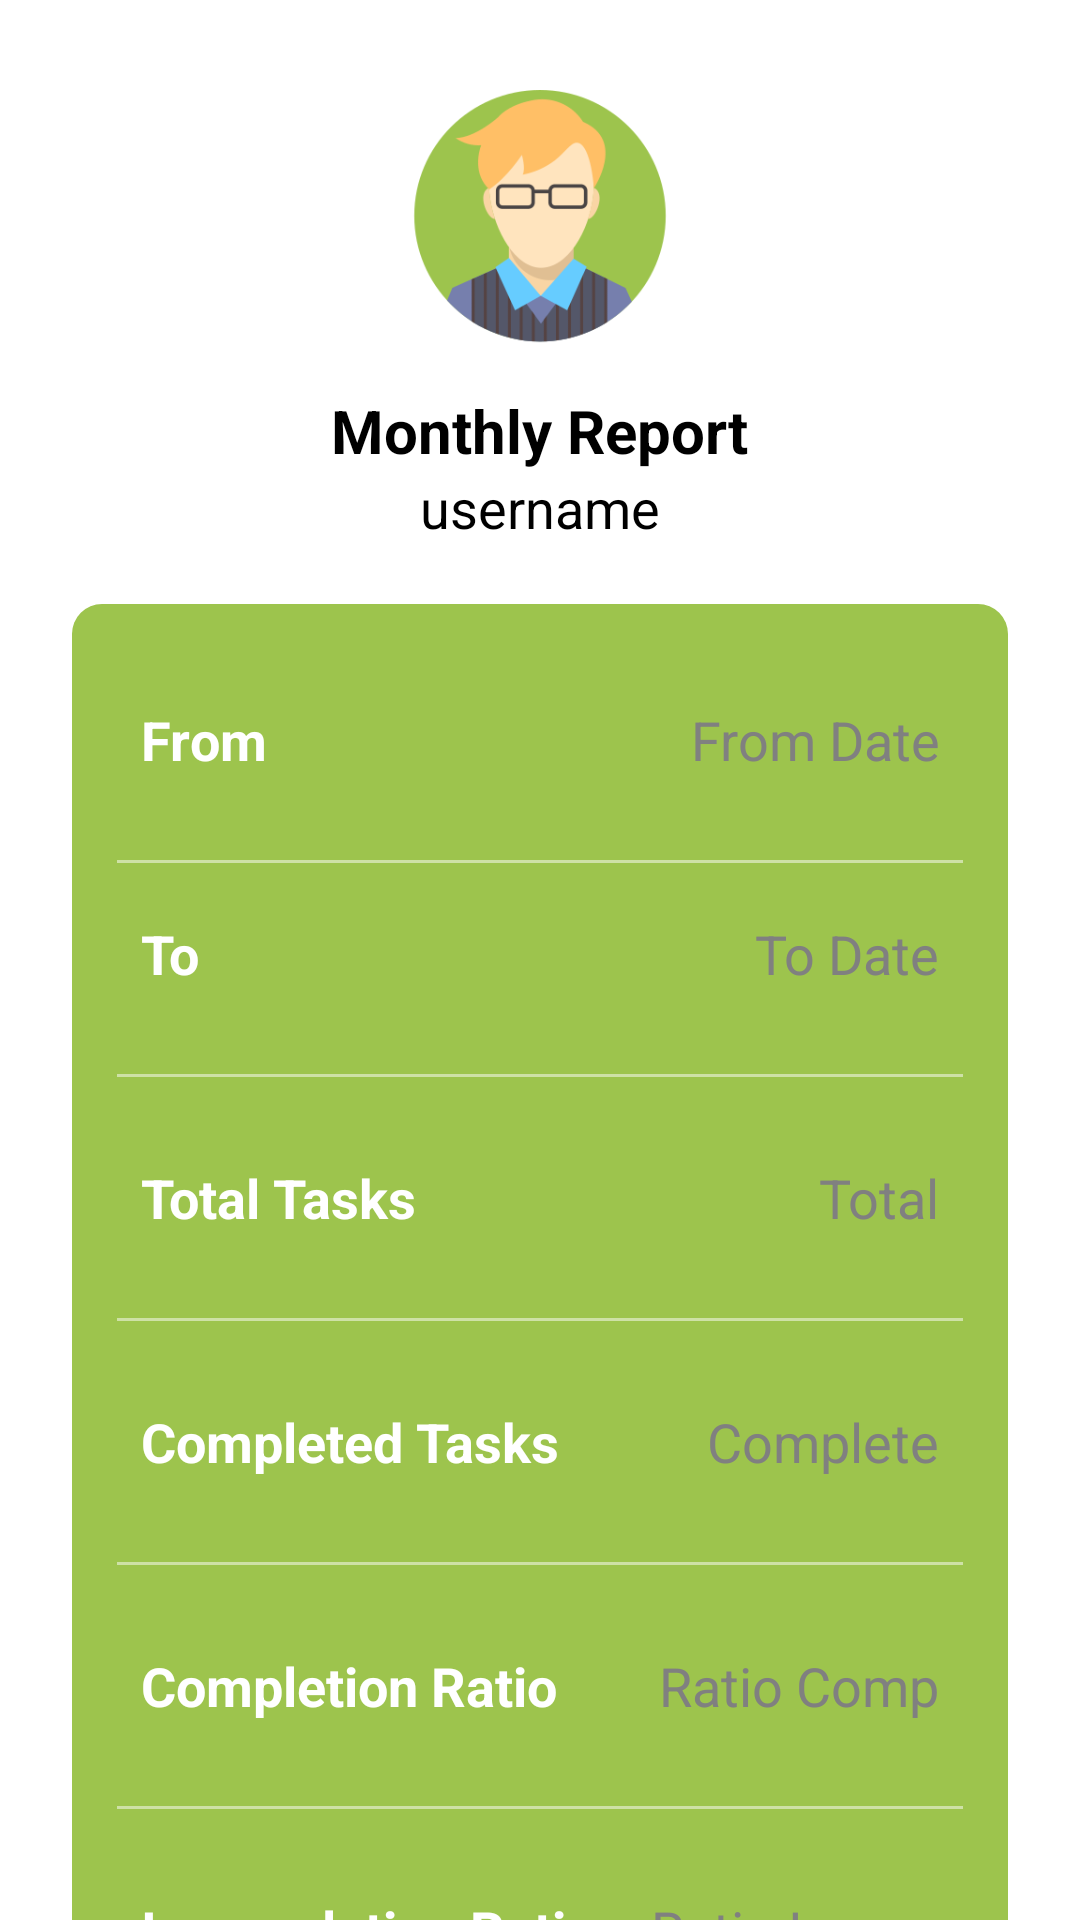

Screen size 1080×1920. Icon name, then its box in pixels as (x1, y1, x2, y2):
profile fo: (414, 90, 666, 342)
